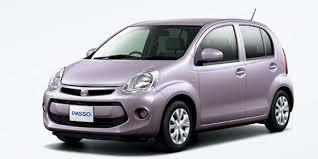Hatchback: (30, 3, 303, 159)
